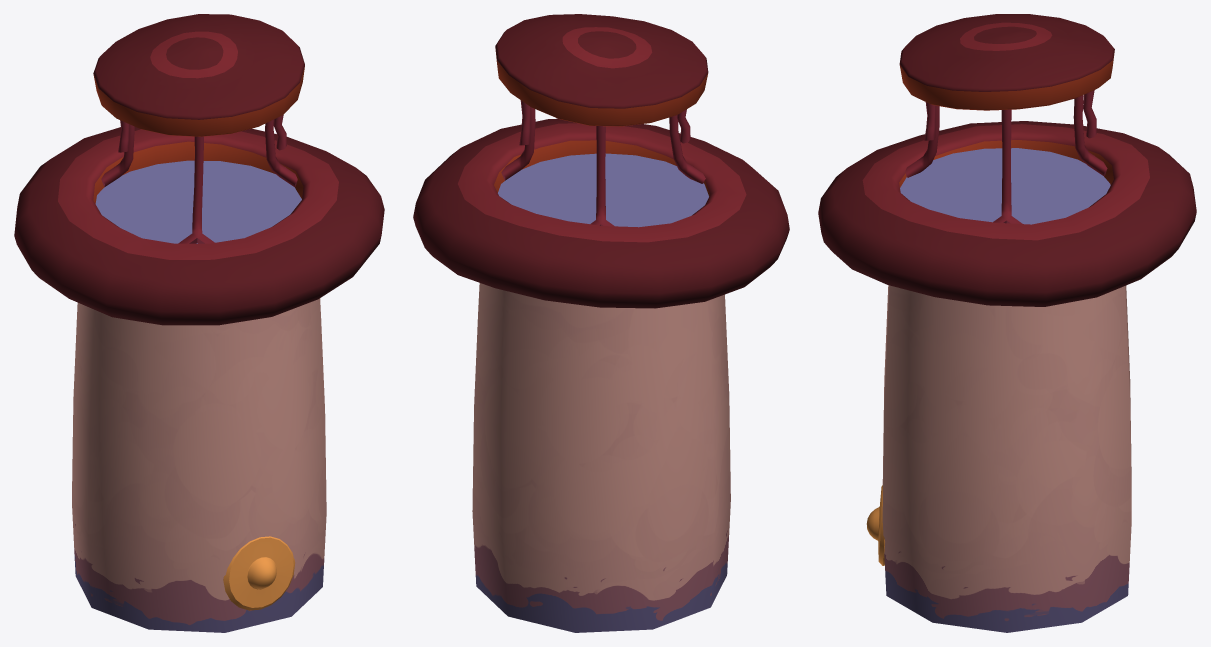
Rendered from L_House3.fbx.
3 views of the same model, side by side, from view 1: azimuth 30°, elevation 25°; view 2: azimuth 150°, elevation 25°; view 3: azimuth 270°, elevation 25° (orthographic). The views are drawn at different scales.
Parts seen in each view (by area): view 1: L_House3; view 2: L_House3; view 3: L_House3.
Boxes of the visible parts, <box> form: L_House3: <box>14,14,384,632</box>; L_House3: <box>413,14,789,632</box>; L_House3: <box>818,14,1196,632</box>.
Size of the model in its own units: 892 by 1422 by 894.
